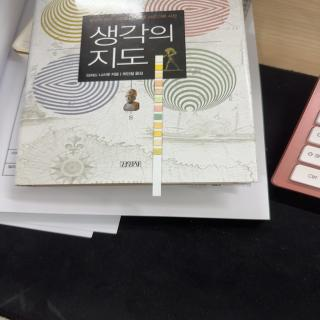mark: (155, 80, 163, 86), (154, 105, 162, 111), (154, 114, 162, 120), (154, 122, 162, 128), (154, 140, 162, 146), (155, 72, 162, 78), (155, 57, 163, 62), (154, 149, 161, 154), (155, 89, 162, 94), (155, 97, 162, 102), (154, 131, 161, 136), (156, 65, 162, 70)
